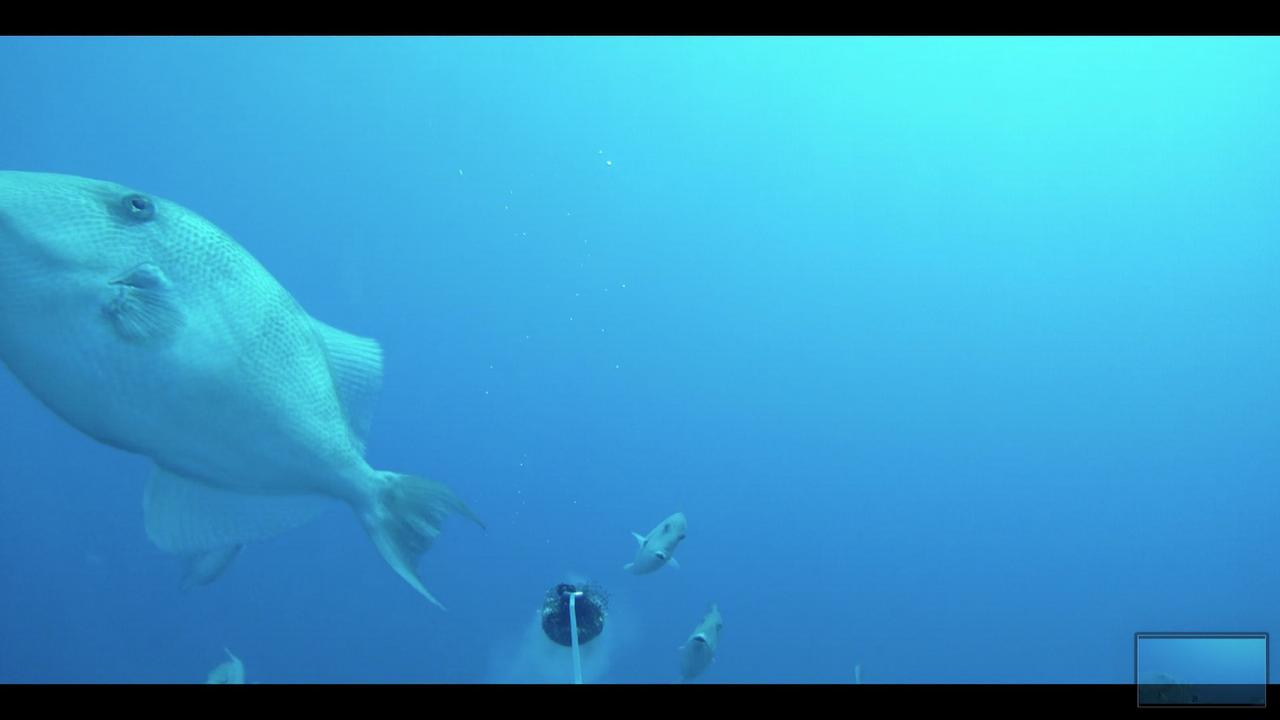balistes: (0, 162, 491, 608), (620, 505, 694, 589), (669, 598, 740, 683)
